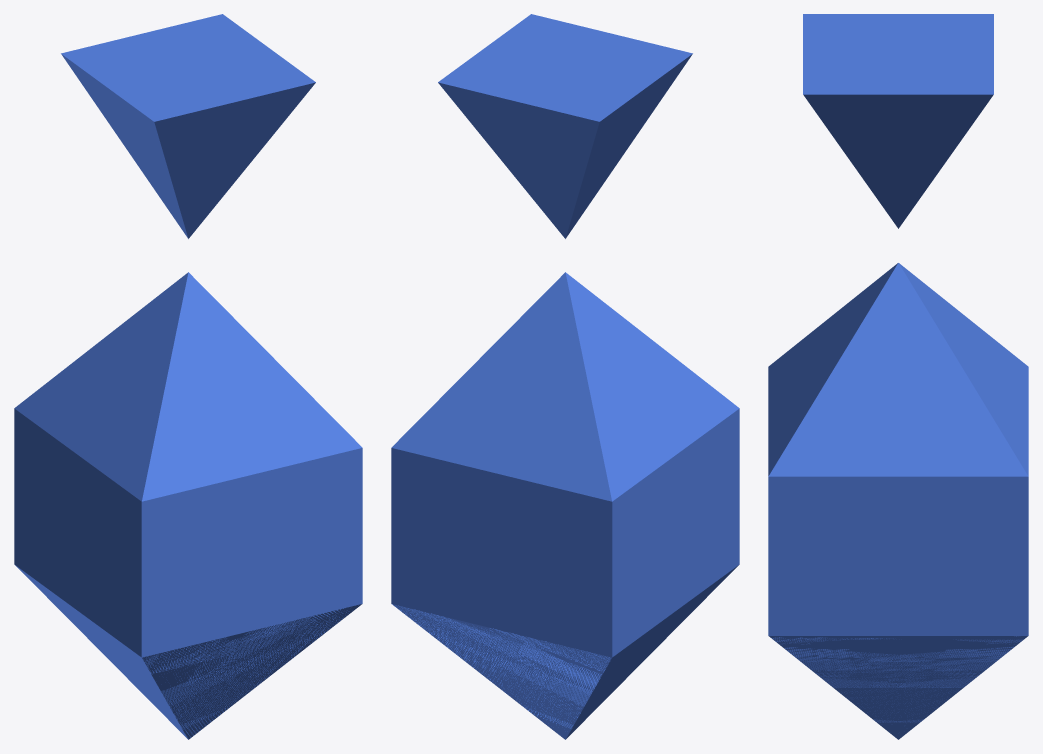
Rendered from CristalNPC.fbx.
3 renders of one model, left to right at view 1: azimuth 30°, elevation 25°; view 2: azimuth 150°, elevation 25°; view 3: azimuth 270°, elevation 25°, orthographic. The views are drawn at different scales.
Visible parts, largest first — view 1: Cube; view 2: Cube; view 3: Cube.
Part boxes in pixels (<box>): Cube: <box>14,14,362,739</box>; Cube: <box>391,14,739,739</box>; Cube: <box>768,14,1028,739</box>.
Bounding box in the file's own units: 56.67 × 165 × 56.67.
